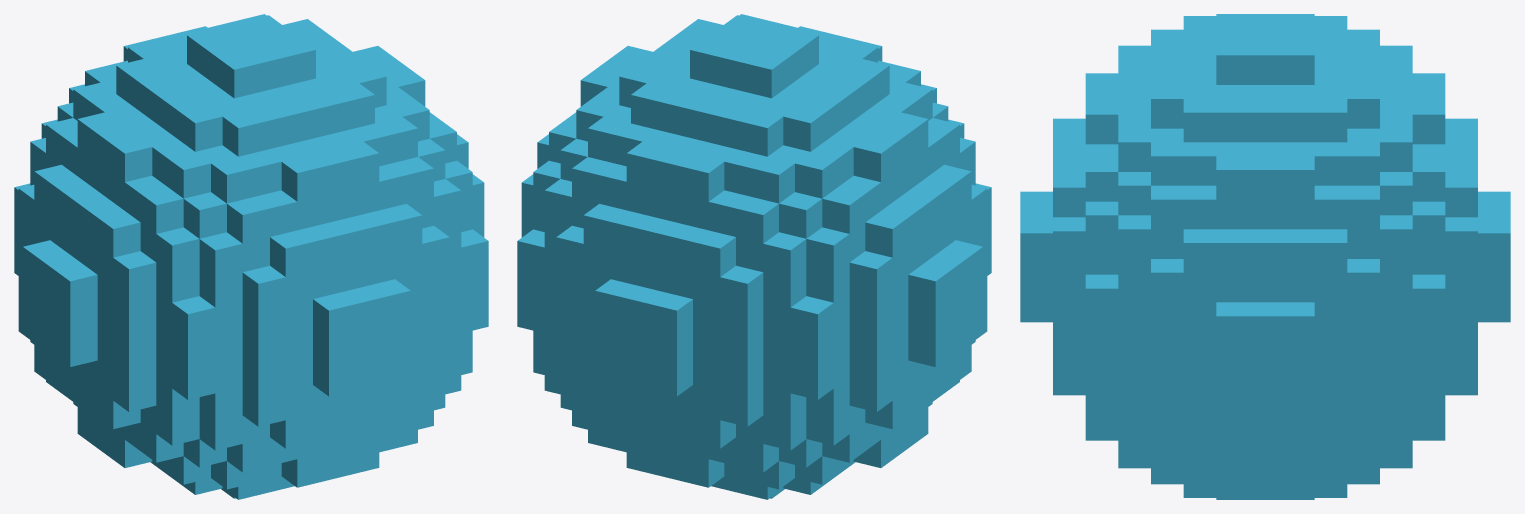
Rendered from SadguyProjectileExplosion.fbx.
3 renders of one model, left to right at view 1: azimuth 30°, elevation 25°; view 2: azimuth 150°, elevation 25°; view 3: azimuth 270°, elevation 25°, orthographic. The views are drawn at different scales.
Visible parts, largest first — view 1: SadguyBasic.003; view 2: SadguyBasic.003; view 3: SadguyBasic.003.
Part boxes in pixels (bbox=[...]): SadguyBasic.003: bbox=[14, 14, 488, 499]; SadguyBasic.003: bbox=[517, 14, 991, 499]; SadguyBasic.003: bbox=[1020, 14, 1510, 499].
Bounding box in the file's own units: 87.78 × 87.78 × 87.78.
